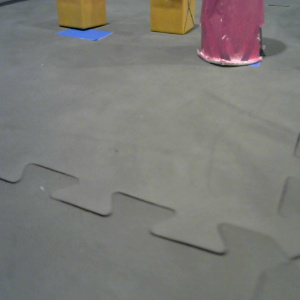Right: (197, 1, 268, 67)
